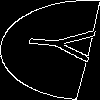Y: (25, 25, 100, 64)
